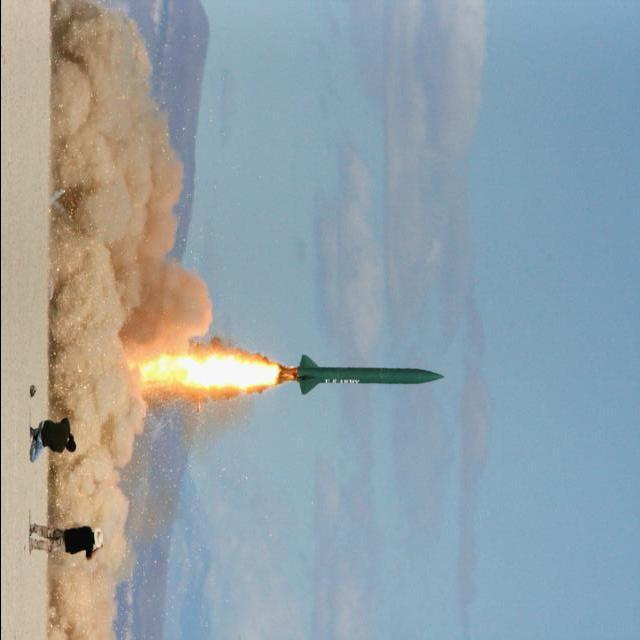missile: (268, 343, 448, 423)
